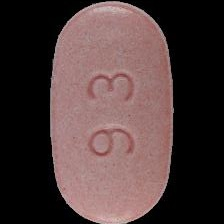0093-5862: (0, 0, 224, 224)
